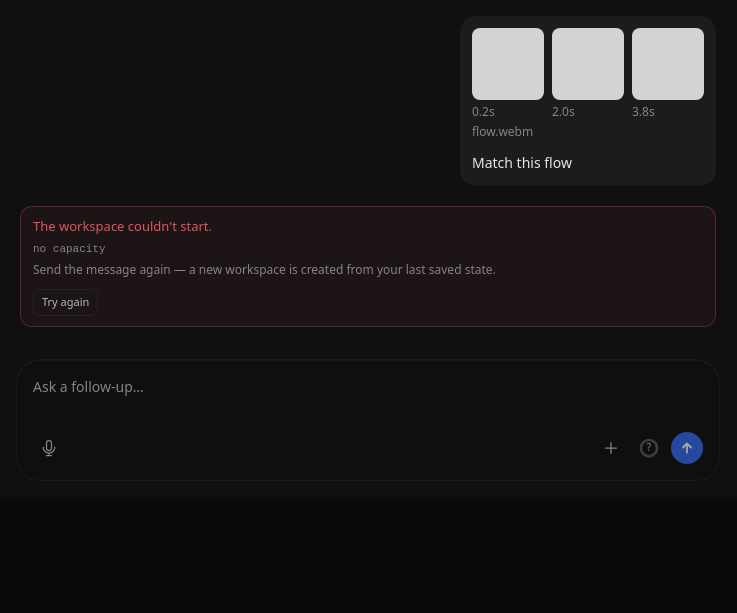
LiveChatPane › retries replayed video references with every frame byte and timestamp intact
This screenshot has width=737, height=613.
Click the button "Try again" at x=66, y=303, box 33,289 -> 98,316
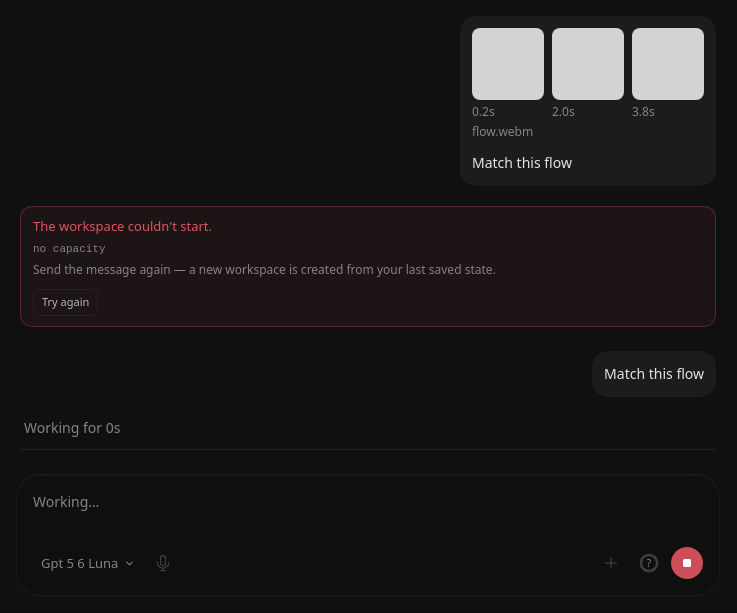
expect the button named "Stop" is enabled: met, box 671,547 -> 703,579
